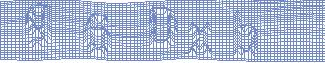6: (82, 12, 111, 58)
D: (147, 6, 178, 49)
b: (231, 10, 259, 60)
g: (22, 2, 54, 52)
x: (186, 22, 213, 59)
